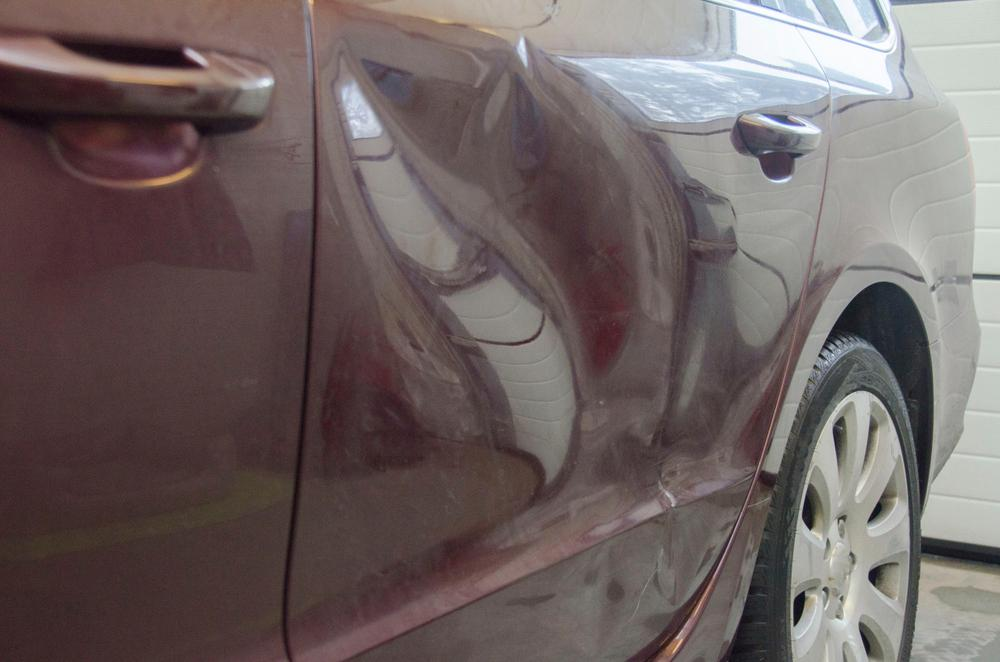dent: (314, 45, 807, 653)
